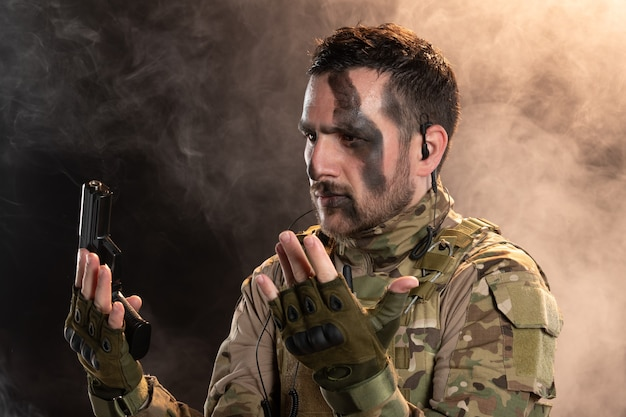gun: (75, 179, 152, 362)
